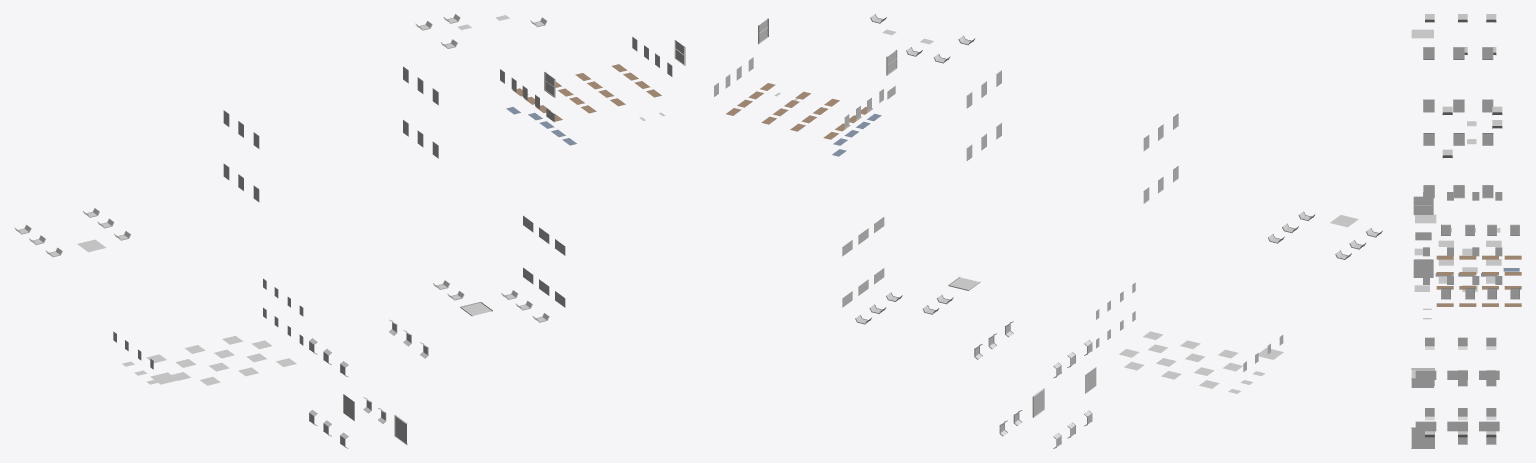
3 views of the same model, side by side, from view 1: azimuth 30°, elevation 25°; view 2: azimuth 150°, elevation 25°; view 3: azimuth 270°, elevation 25° (orthographic).
Parts seen in each view (by area): view 1: SM_000282.001; view 2: SM_000282.001; view 3: SM_000282.001.
Part boxes in pixels (box(x1,y1,x2,y2)): SM_000282.001: box(14, 14, 685, 448); SM_000282.001: box(714, 14, 1382, 448); SM_000282.001: box(1411, 14, 1521, 448).
Size of the model in its own units: 83.21 by 47.23 by 12.79.
